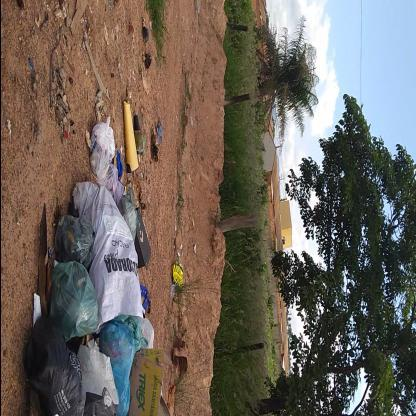lixo: (30, 101, 152, 416)
